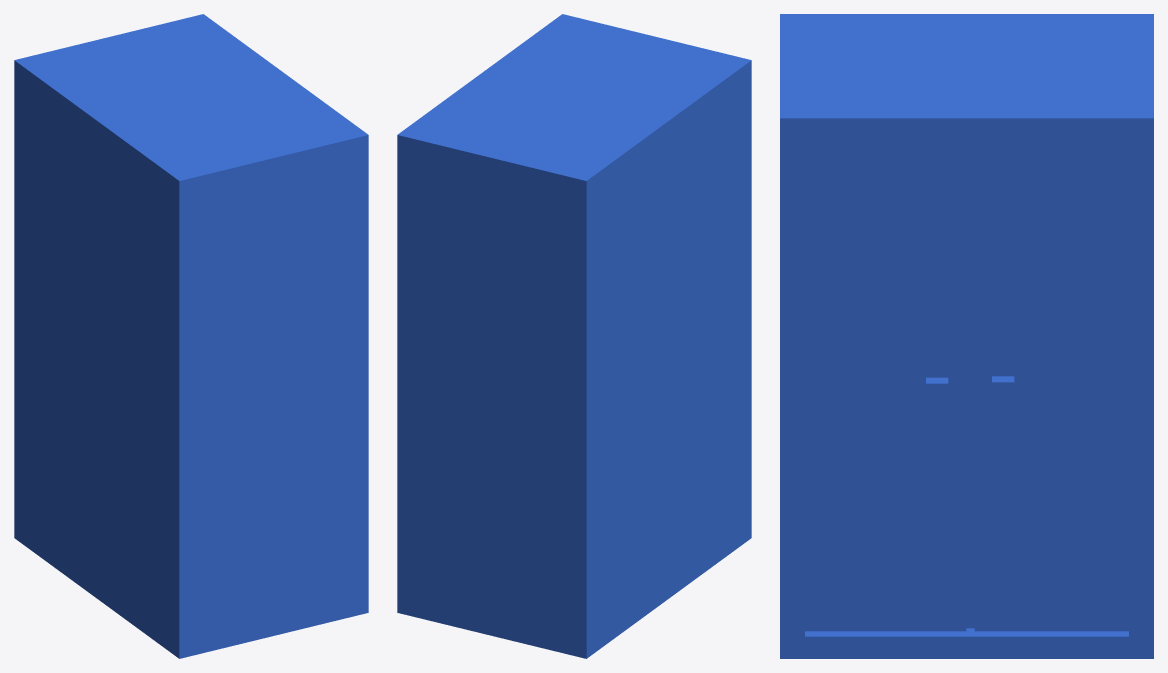
Rendered from armario.fbx.
3 renders of one model, left to right at view 1: azimuth 30°, elevation 25°; view 2: azimuth 150°, elevation 25°; view 3: azimuth 270°, elevation 25°, orthographic. The views are drawn at different scales.
Visible parts, largest first — view 1: Cube; view 2: Cube; view 3: Cube.
Boxes of the visible parts, x1,y1,x2,y2 form: Cube: (14, 14, 368, 658); Cube: (397, 14, 751, 658); Cube: (780, 14, 1153, 658).
Bounding box in the file's own units: 133 × 319 × 200.
